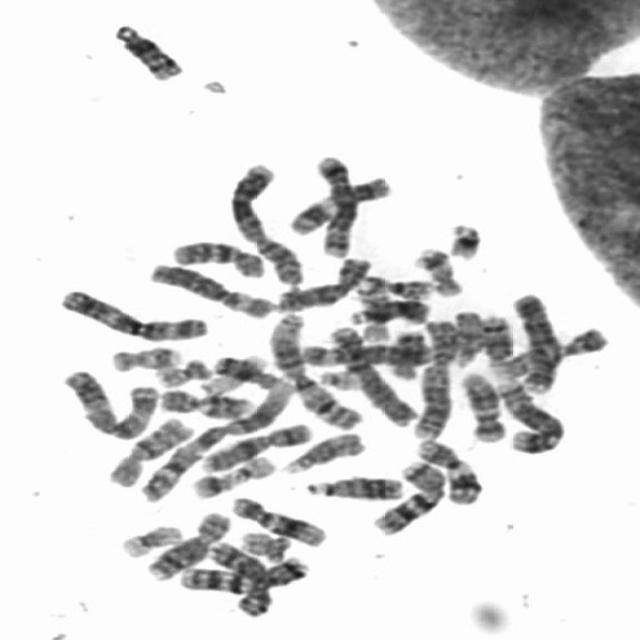A1: (130, 376, 298, 504), (260, 306, 366, 431)
A2: (221, 156, 308, 285), (406, 312, 463, 441)
A3: (50, 281, 212, 342), (54, 362, 163, 441)
B4: (322, 319, 418, 427), (506, 286, 565, 395)
B5: (487, 373, 569, 455), (306, 148, 359, 258)
C10: (100, 410, 195, 489), (163, 233, 270, 279)
C11: (280, 168, 396, 236), (407, 432, 485, 506)
C12: (222, 488, 330, 548), (453, 364, 508, 444)
C6: (141, 255, 275, 321), (292, 336, 438, 368)
C7: (363, 453, 450, 536), (171, 554, 318, 597)
C8: (138, 505, 234, 582), (207, 543, 280, 616)
C9: (483, 320, 613, 380), (153, 382, 257, 421)
D13: (298, 468, 408, 502), (341, 293, 433, 325)
D14: (104, 16, 186, 81), (474, 308, 516, 366)
D15: (276, 425, 368, 475), (446, 303, 486, 368)
E16: (349, 277, 394, 343), (350, 268, 437, 301)
E17: (406, 240, 465, 298), (102, 338, 185, 373)
E18: (380, 324, 425, 380), (147, 342, 195, 390)
F19: (196, 356, 276, 396), (112, 518, 185, 560)
F20: (146, 350, 215, 388), (233, 524, 292, 564)
G21: (438, 215, 486, 261), (182, 465, 237, 500)
G22: (222, 449, 278, 483), (312, 362, 364, 392)
X: (194, 416, 315, 474), (269, 250, 375, 313)
